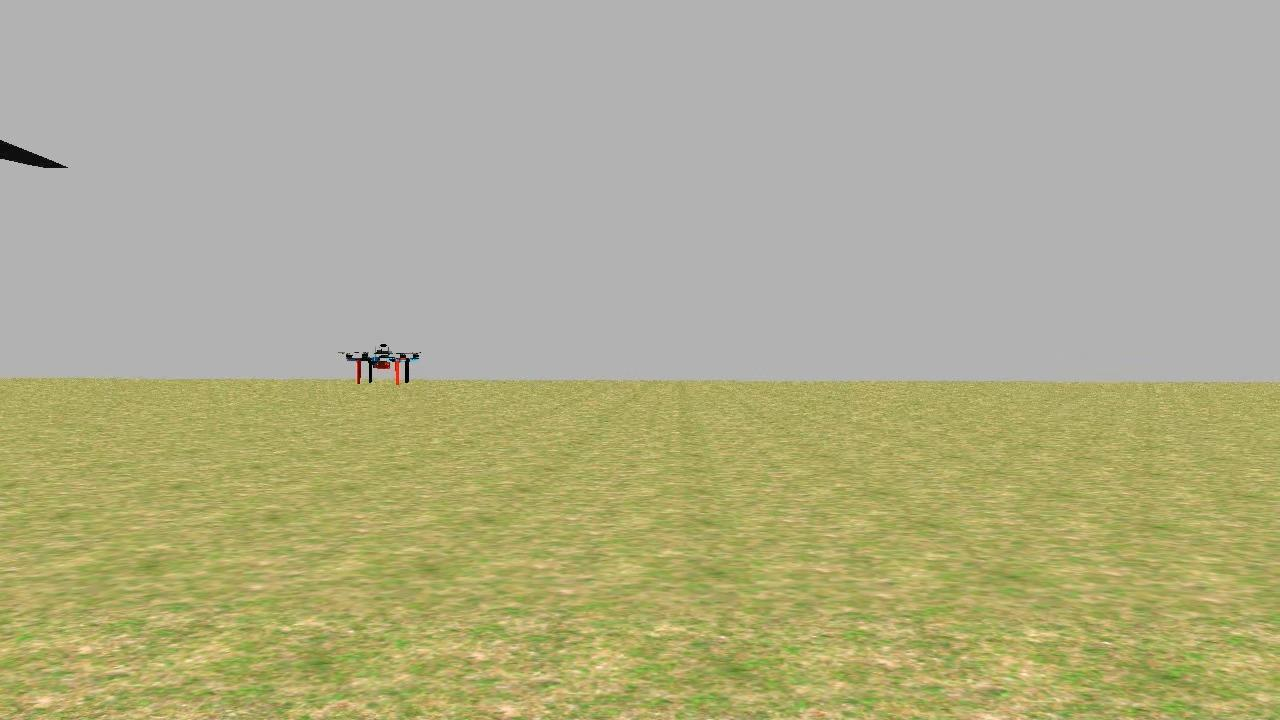UAV: (340, 340, 426, 388)
